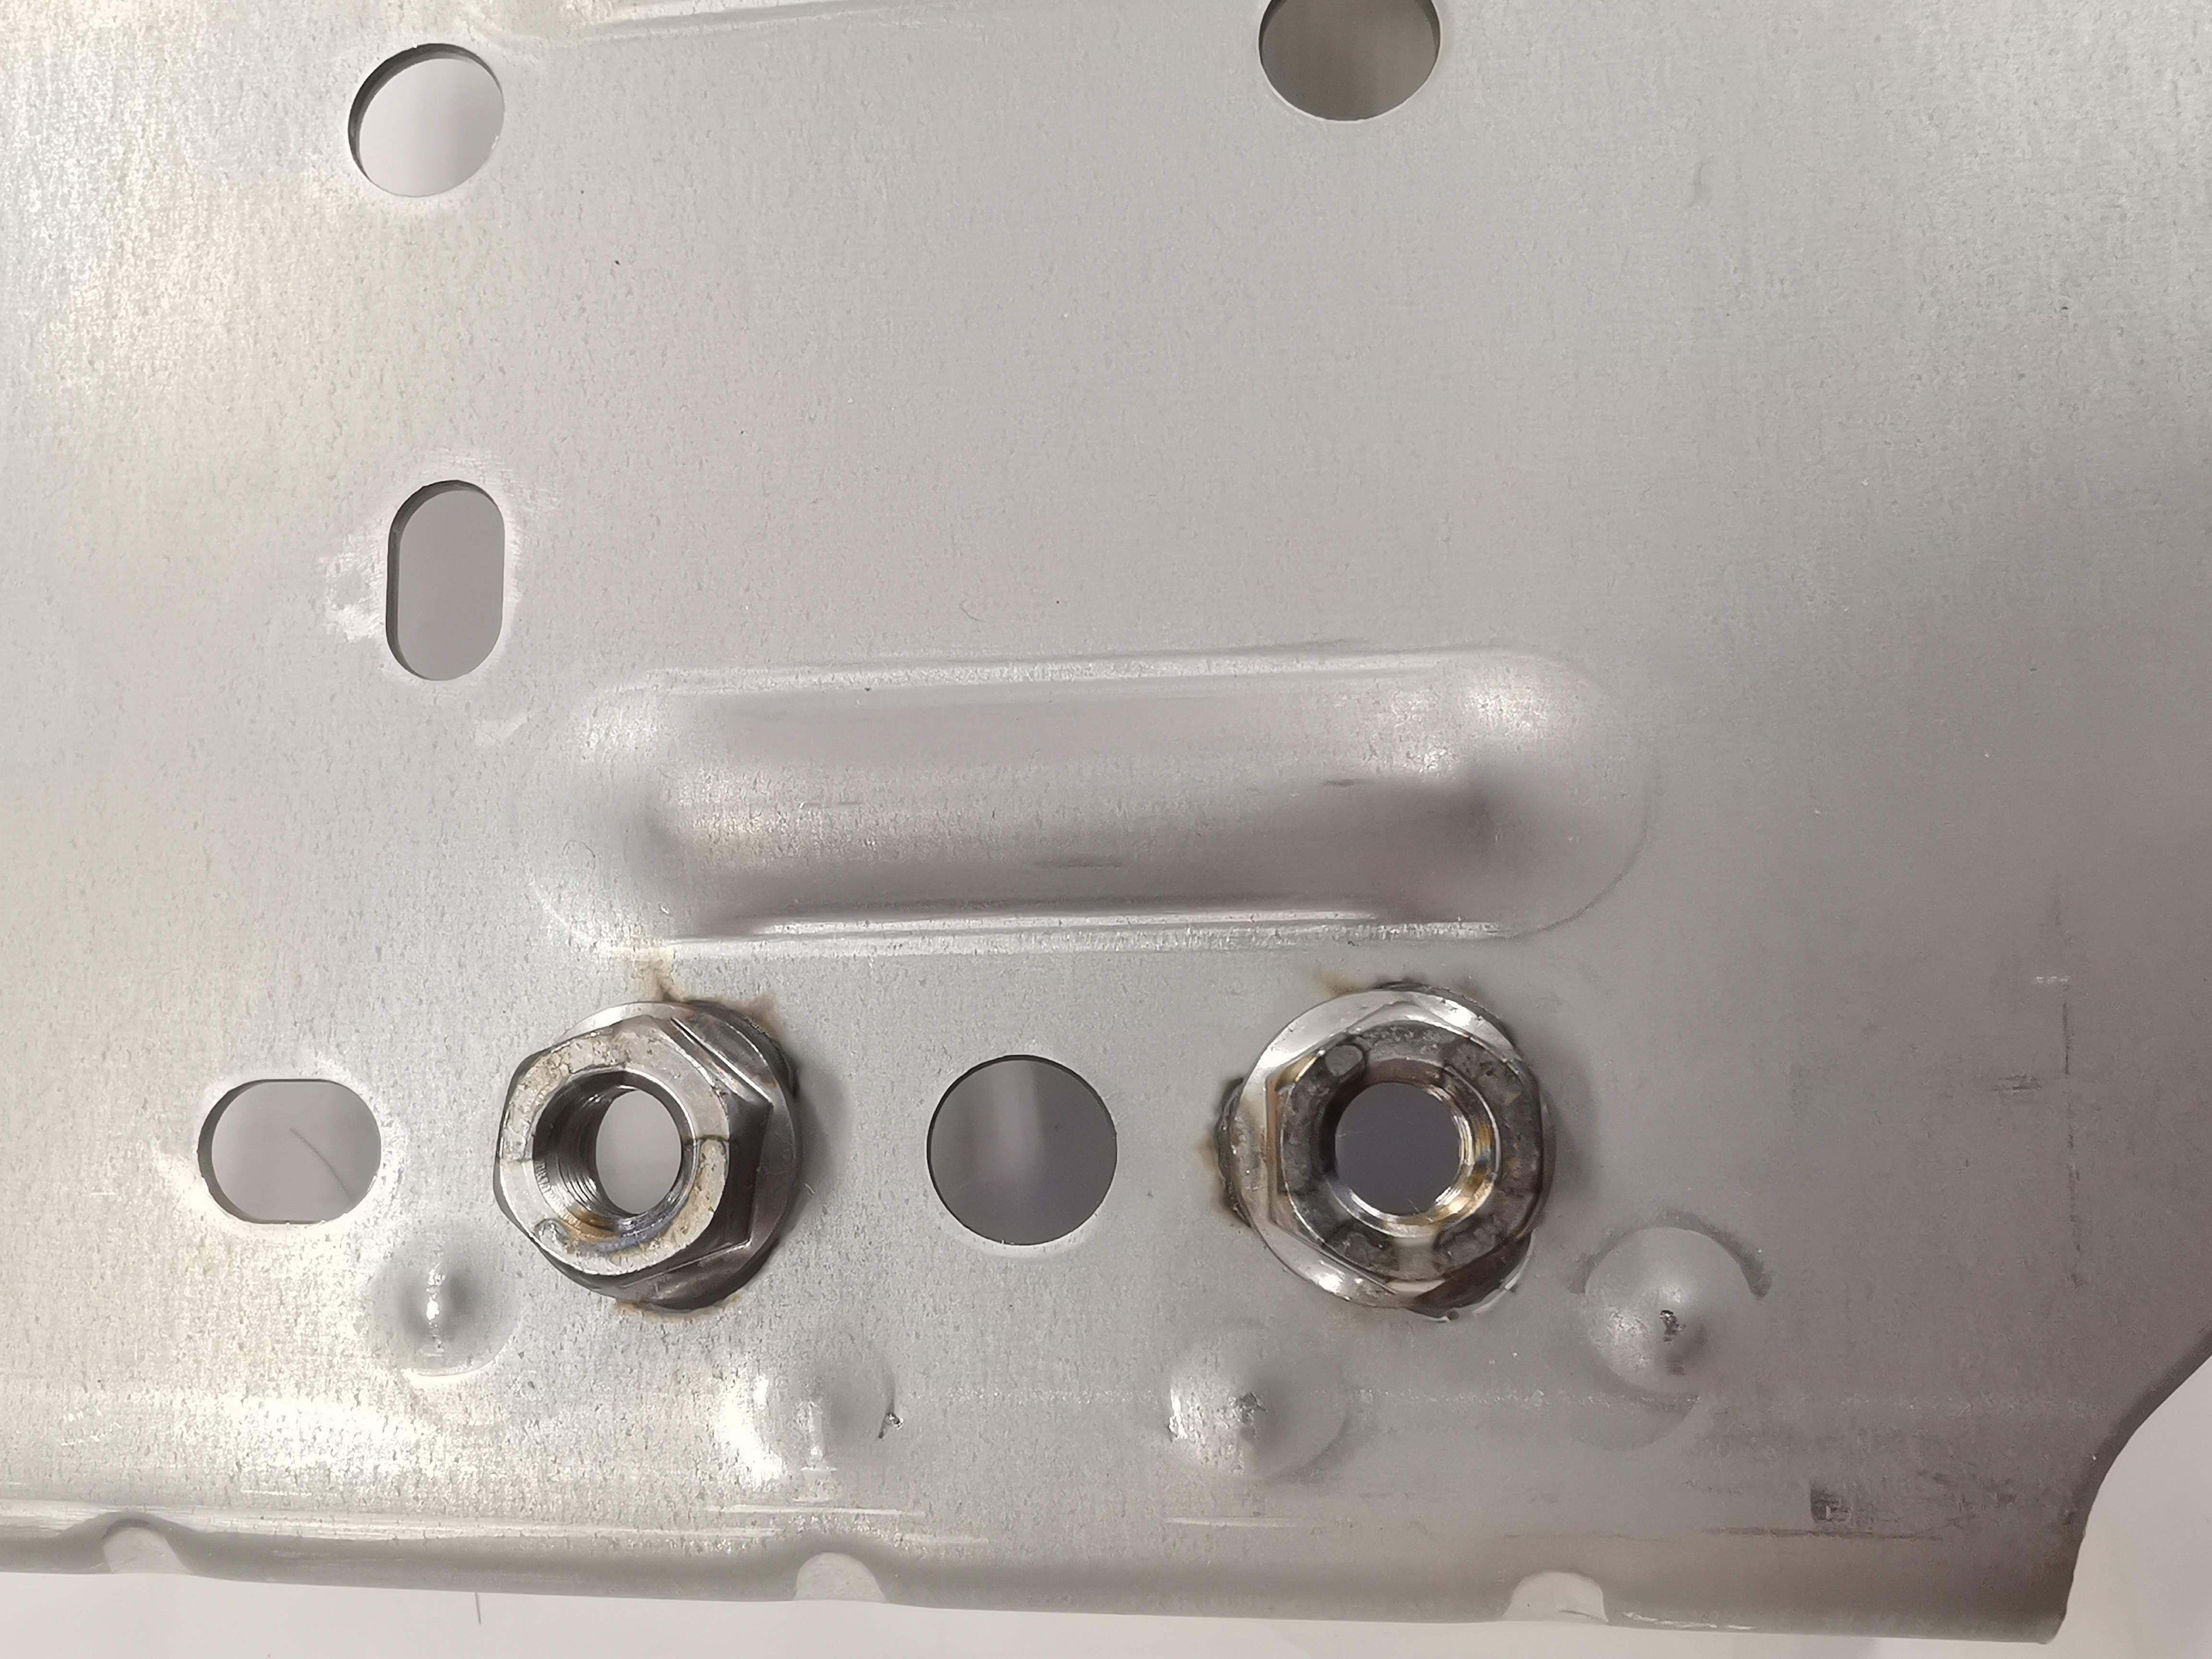dog: (1207, 969, 1555, 1328), (481, 992, 824, 1321)
